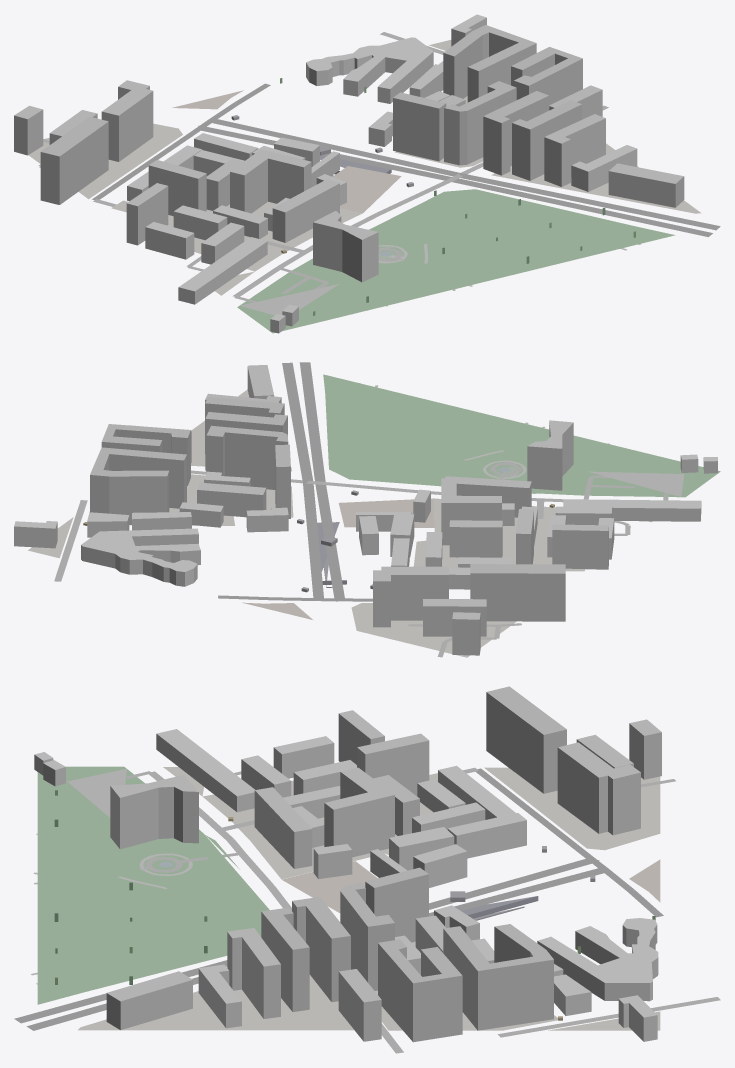
The picture shows the model from 3 angles, top to bottom: view 1: azimuth 30°, elevation 25°; view 2: azimuth 150°, elevation 25°; view 3: azimuth 270°, elevation 25°; orthographic projection. The views are drawn at different scales.
Bounding box in the file's own units: 586 × 77.95 × 568.
